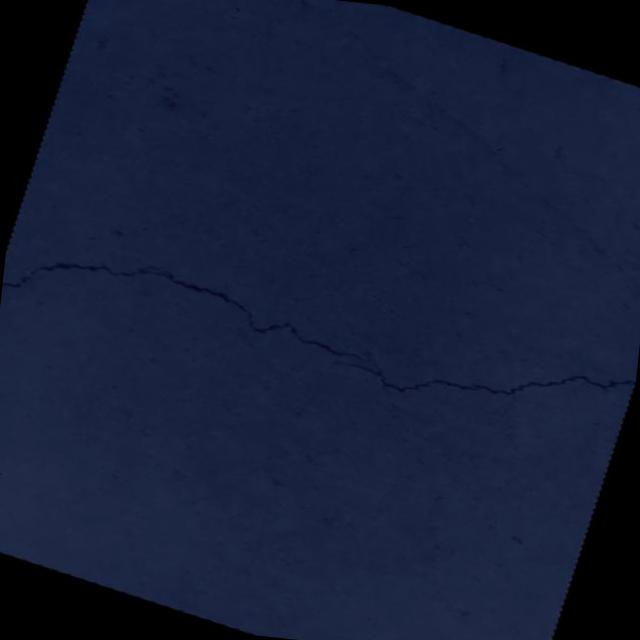crack: (0, 182, 640, 485)
